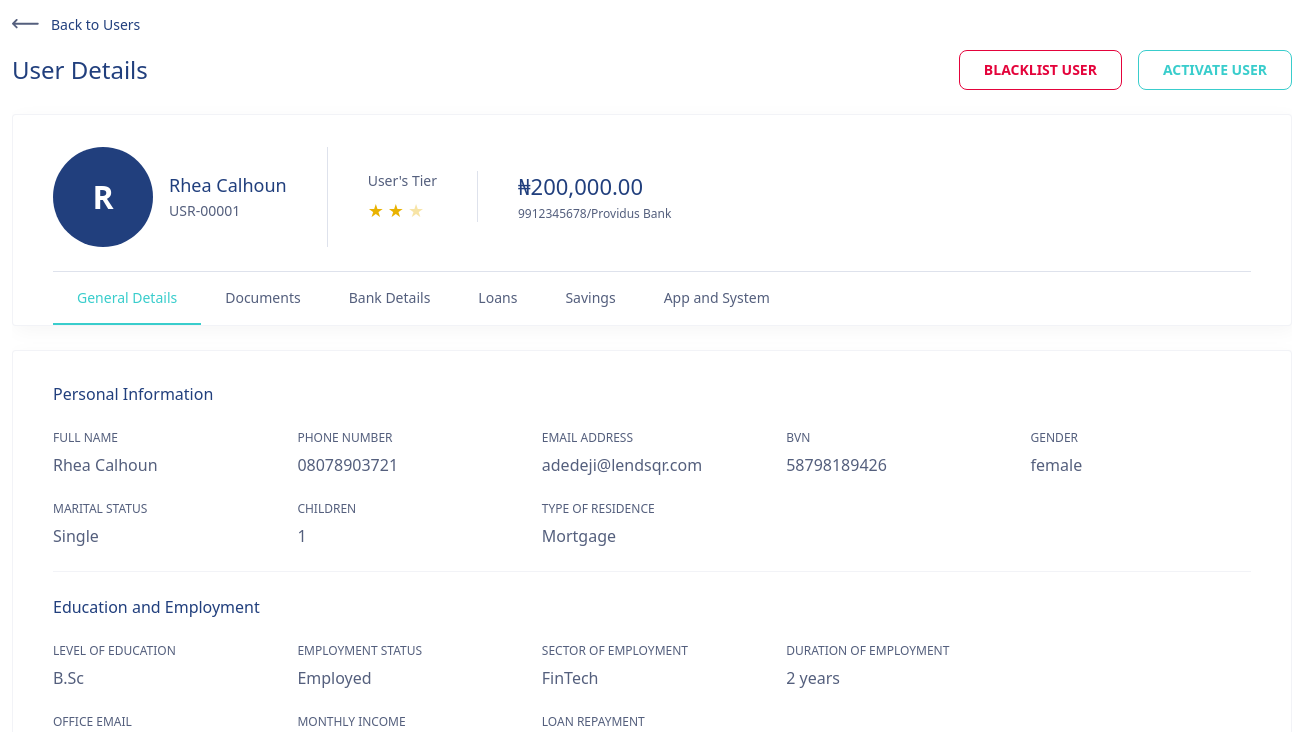
UserDetails page › switches tabs and shows a placeholder for sections without data
Expected: the text "USR-00001" is shown, [169,201,240,220]
Expected: the heading "Personal Information" is shown, [53,382,213,404]
Click the tab "Documents" at (263, 298), box [201,272,325,324]
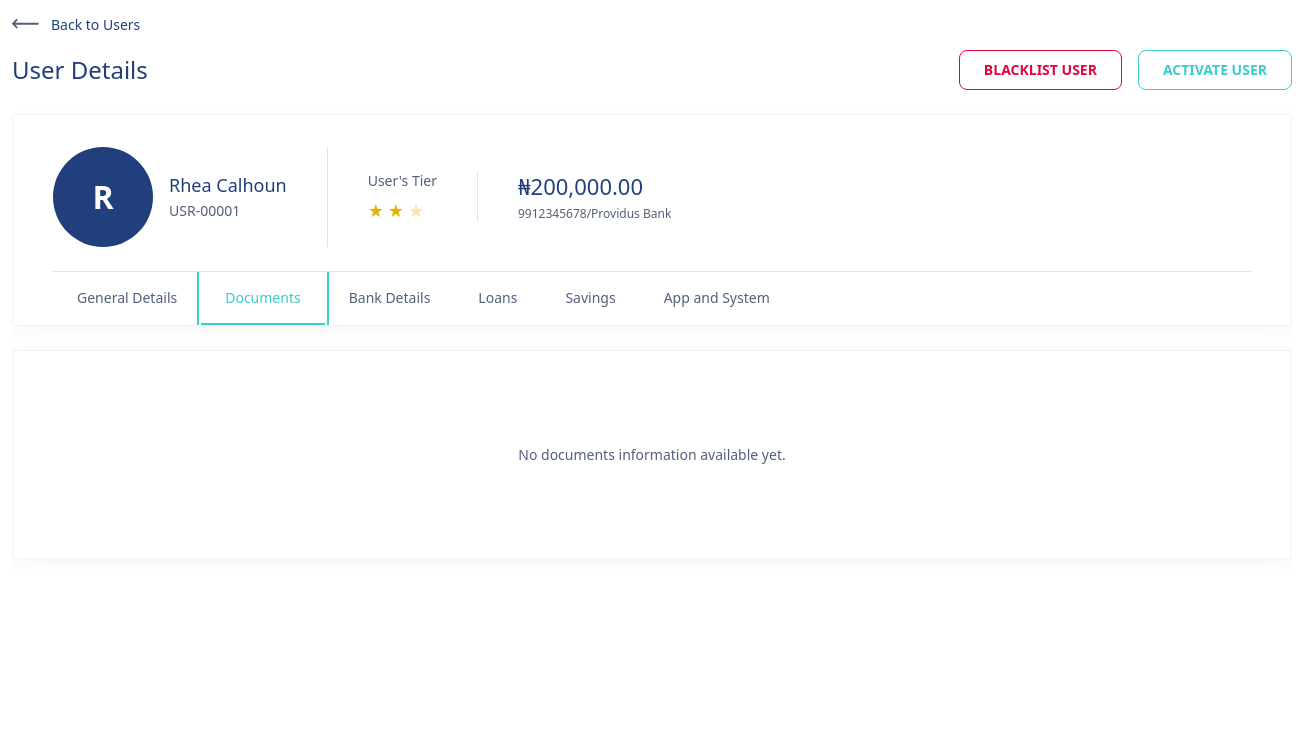
Expected: the heading "Personal Information" is gone
Expected: the text "No documents information available yet." is shown, [518,444,786,464]
